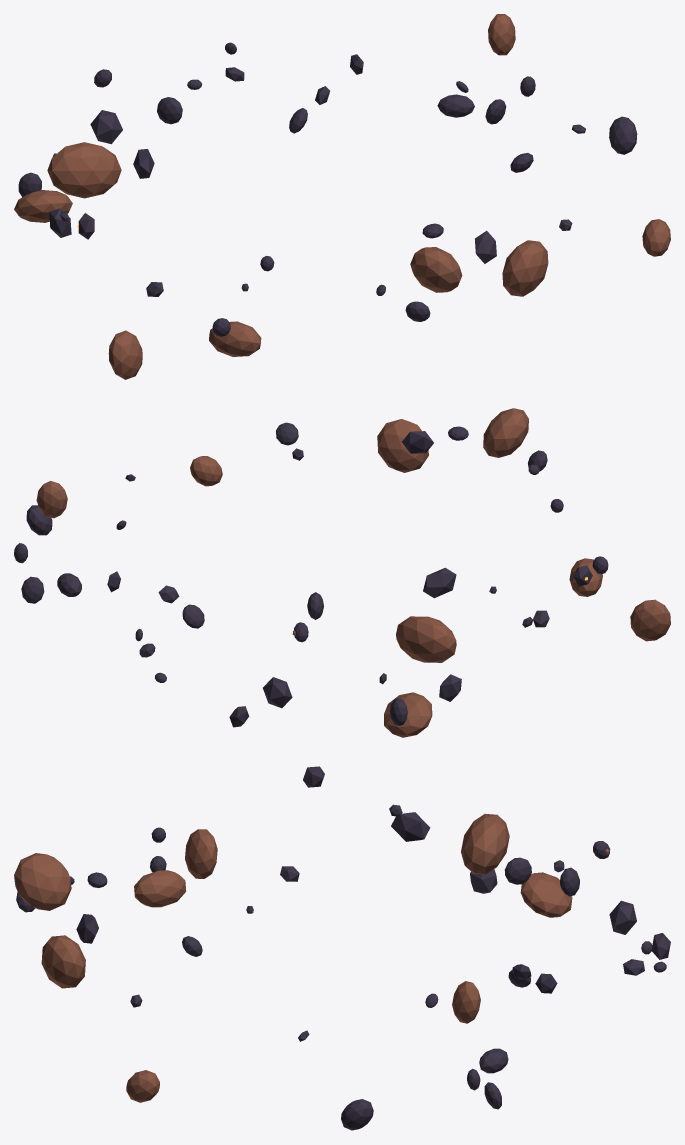
File: black_hole_debris.glb
The picture shows the model from 3 angles, top to bottom: view 1: azimuth 30°, elevation 25°; view 2: azimuth 150°, elevation 25°; view 3: azimuth 270°, elevation 25°; orthographic projection. The views are drawn at different scales.
Visible parts, largest first — view 1: black_hole_debris; view 2: black_hole_debris; view 3: black_hole_debris.
Part boxes in pixels (x1=…): black_hole_debris: x1=14, y1=14, x2=670, y2=379; black_hole_debris: x1=14, y1=408, x2=670, y2=737; black_hole_debris: x1=14, y1=766, x2=670, y2=1130.
Bounding box in the file's own units: 9.08 × 2.05 × 8.45.
